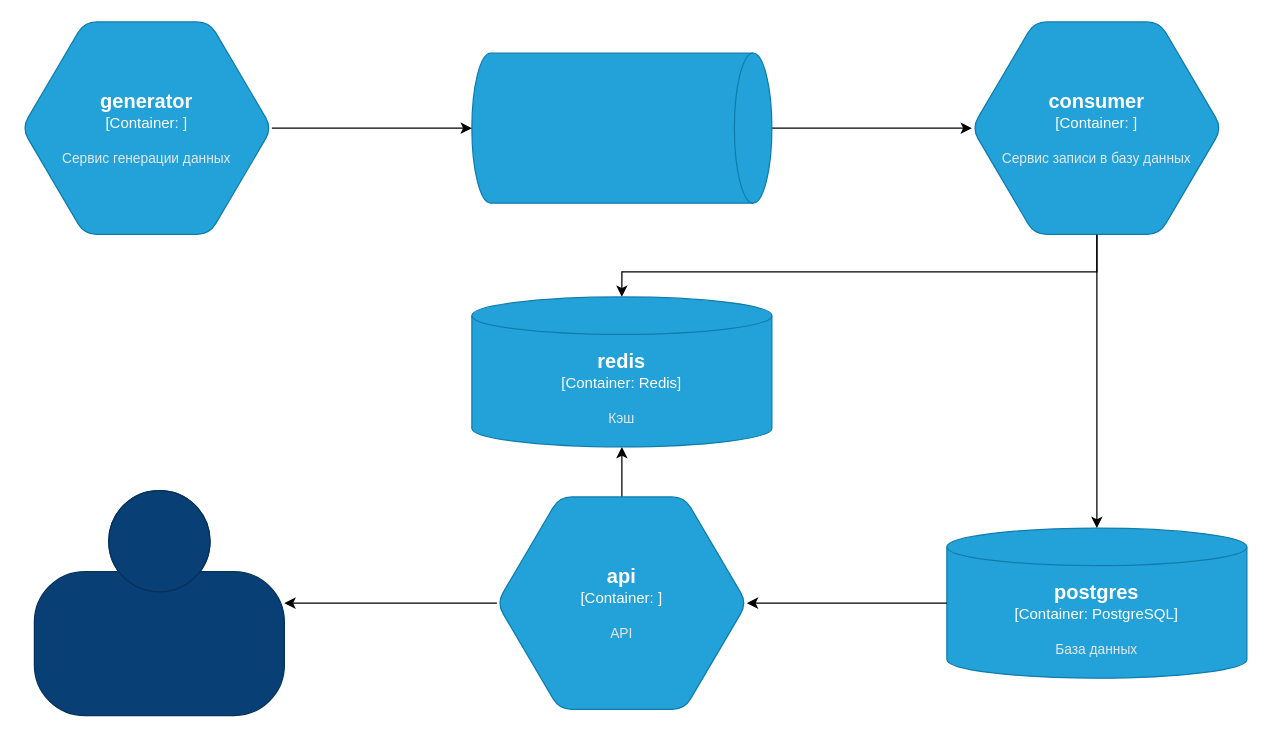
This 1269x738 diagram has some shape labels left out. Each missing label, with the centre of its shape:
"kafka [Container: e.g. Apache Kafka] Очередь сообщений" goes at pixel 621 127.
"Person [Person] Description of person." goes at pixel 158 602.
